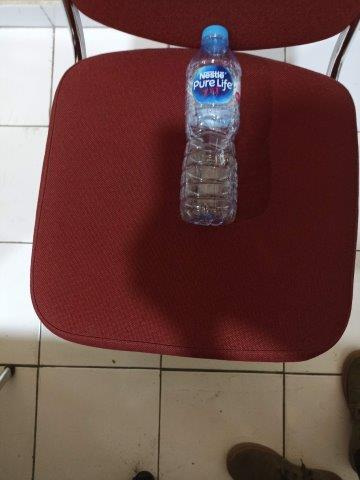botolplastik: (178, 24, 238, 227)
